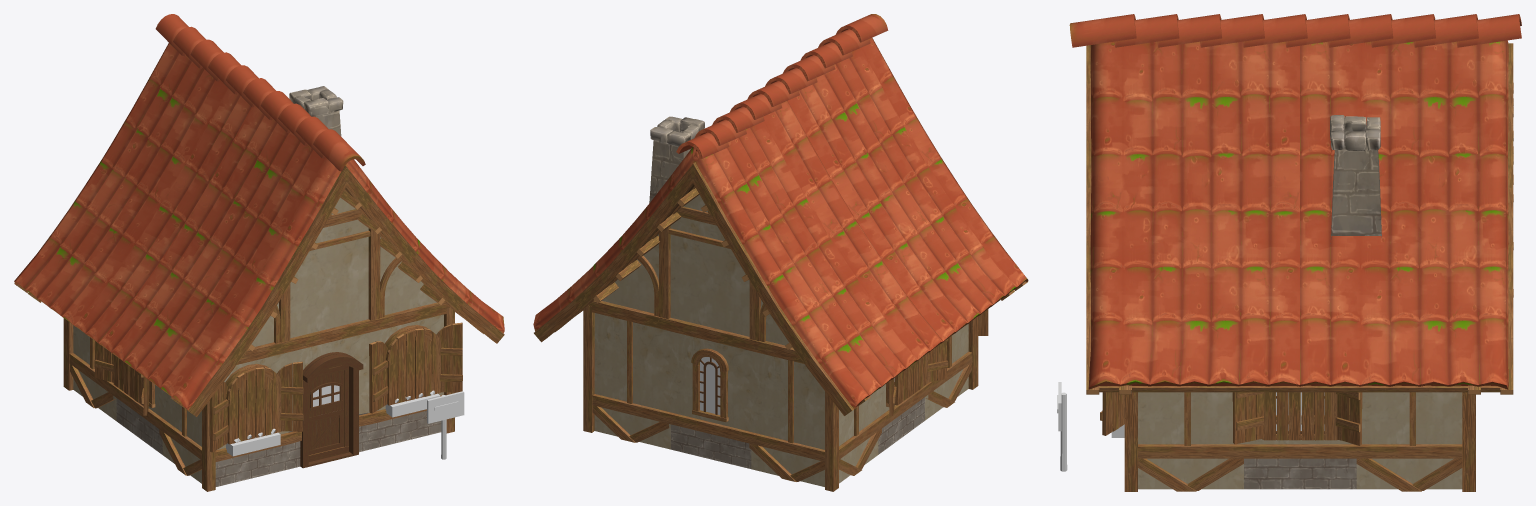
File: fx_empty_cottage.gltf
3 renders of one model, left to right at view 1: azimuth 30°, elevation 25°; view 2: azimuth 150°, elevation 25°; view 3: azimuth 270°, elevation 25°, orthographic. The views are drawn at different scales.
Parts seen in each view (by area): view 1: T1_KitRoofRoundTiles6x6043, T1_KitRoofFrontBrick6044, T1_KitWindowShuttersWideRoundClosed004, T1_KitWindowShuttersWideRoundClosed012, T1_KitDoor1Round007, T1_KitWallPlasterWindowWideRound009, T2_KitWindowShuttersWideRoundOpen012, T1_KitWallPlasterWindowWideRound001, T1_KitWallPlasterDoorRound005, T2_KitWindowShuttersWideRoundOpen004, T1_KitWallPlasterStraight023, T1_KitDoorFrameRoundWoodDark006 (+10 smaller); view 2: T1_KitRoofRoundTiles6x6043, T1_KitRoofFrontBrick6045, T1_KitWallPlasterStraight013, T1_KitWallPlasterStraight017, T1_KitWallPlasterWindowThinRound014, T1_KitWallPlasterStraight018, T1_KitPropChimney046, T1_KitWallPlasterStraight023, T1_KitWallPlasterWindowWideRound019, T1_KitWindowThinRound1015, T1_KitCornerExteriorWood032, T1_KitCornerExteriorWood033 (+4 smaller); view 3: T1_KitRoofRoundTiles6x6043, T1_KitWallPlasterStraight029, T1_KitWallPlasterStraight024, T1_KitPropChimney046, T1_KitWallPlasterWindowWideRound025, T1_KitWindowShuttersWideRoundClosed028, T2_KitWindowShuttersWideRoundOpen028, T1_KitCornerExteriorWood032, T1_KitCornerExteriorWood031, T2_KitWindowShuttersWideRoundOpen012, T1_BoardPost047.
Part boxes in pixels (x1,y1,x2,y2): T1_KitRoofRoundTiles6x6043: (14, 14, 504, 416); T1_KitRoofFrontBrick6044: (237, 191, 455, 364); T1_KitWindowShuttersWideRoundClosed004: (227, 367, 281, 444); T1_KitWindowShuttersWideRoundClosed012: (387, 328, 440, 405); T1_KitDoor1Round007: (308, 365, 348, 461); T1_KitWallPlasterWindowWideRound009: (368, 314, 443, 449); T2_KitWindowShuttersWideRoundOpen012: (369, 322, 462, 413); T1_KitWallPlasterWindowWideRound001: (215, 352, 290, 486); T1_KitWallPlasterDoorRound005: (288, 333, 370, 469); T2_KitWindowShuttersWideRoundOpen004: (209, 361, 303, 452); T1_KitWallPlasterStraight023: (159, 390, 201, 483); T1_KitDoorFrameRoundWoodDark006: (300, 352, 363, 468); T1_KitRoofRoundTiles6x6043: (533, 14, 1028, 415); T1_KitRoofFrontBrick6045: (588, 188, 803, 363); T1_KitWallPlasterStraight013: (592, 313, 670, 449); T1_KitWallPlasterStraight017: (749, 351, 824, 486); T1_KitWallPlasterWindowThinRound014: (668, 331, 751, 468); T1_KitWallPlasterStraight018: (839, 390, 881, 483); T1_KitPropChimney046: (649, 116, 704, 202); T1_KitWallPlasterStraight023: (925, 324, 972, 420); T1_KitWallPlasterWindowWideRound019: (878, 384, 928, 454); T1_KitWindowThinRound1015: (691, 348, 728, 422); T1_KitCornerExteriorWood032: (583, 305, 594, 432); T1_KitCornerExteriorWood033: (825, 391, 838, 491); T1_KitRoofRoundTiles6x6043: (1069, 14, 1521, 394); T1_KitWallPlasterStraight029: (1356, 392, 1462, 491); T1_KitWallPlasterStraight024: (1138, 392, 1243, 491); T1_KitPropChimney046: (1330, 115, 1381, 243); T1_KitWallPlasterWindowWideRound025: (1244, 439, 1356, 489); T1_KitWindowShuttersWideRoundClosed028: (1264, 392, 1337, 440); T2_KitWindowShuttersWideRoundOpen028: (1232, 392, 1362, 445); T1_KitCornerExteriorWood032: (1462, 392, 1475, 491); T1_KitCornerExteriorWood031: (1124, 392, 1137, 491); T2_KitWindowShuttersWideRoundOpen012: (1100, 392, 1124, 435); T1_BoardPost047: (1060, 392, 1067, 471).
Bounding box in the file's own units: 8.25 × 7.9 × 8.26.
25 materials, 25 textured.
